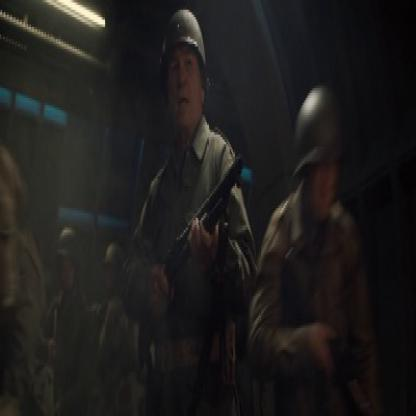Guns: (134, 150, 244, 374)
